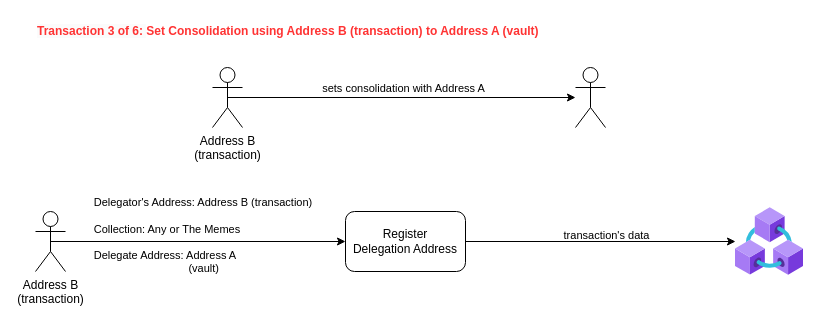
Some shapes in this 827 by 324 pixel diagram are drawn without their labels. The shapes that lost their labels are listed below. From the top down, each one's centre as x and y in pixels, then its label:
At point 590,97: "Address A (vault)".
At point 769,241: "Smart Contract".
